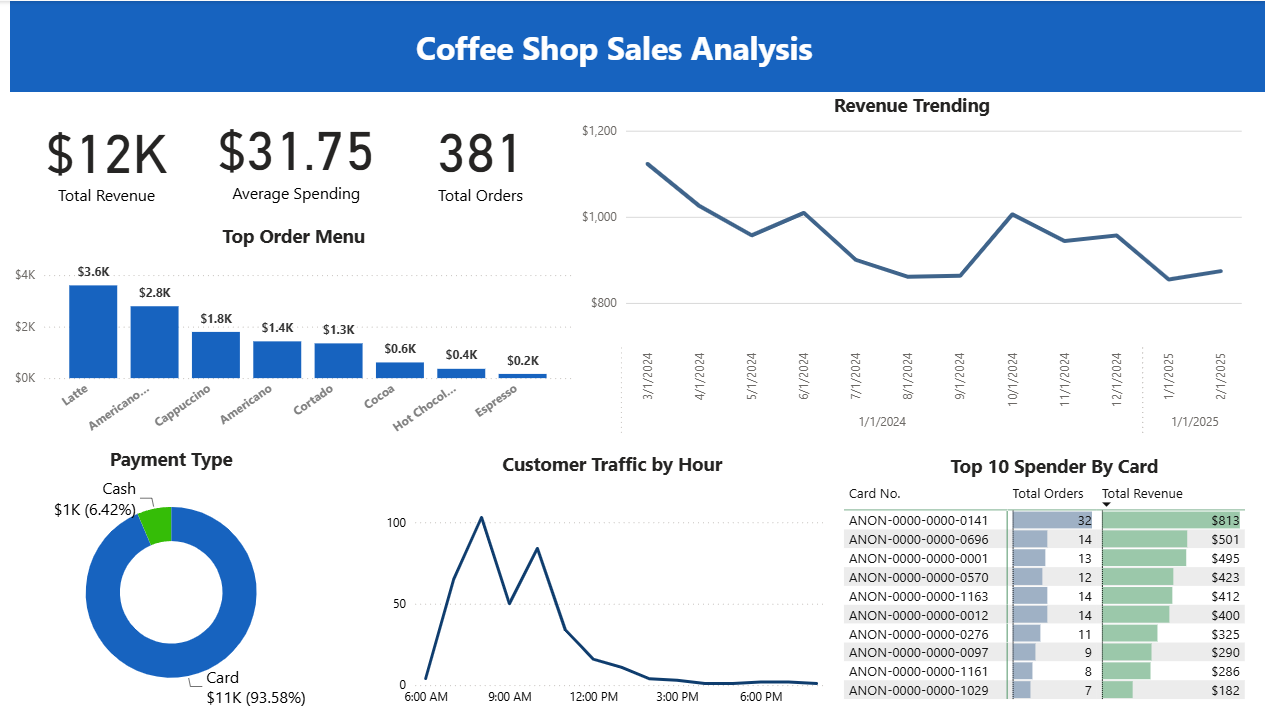

This screenshot's page, from the dashboard's own definition file:
{"tool":"powerbi","page":{"name":"Dashboard","canvas":[1280,720],"ordinal":0},"visuals":[{"type":"shape","box":[10.1,0,1269.9,91.7],"z":0},{"type":"textbox","box":[344.9,19.4,548.9,56.7],"z":1000},{"type":"areaChart","title":"Revenue Trending","fields":{"Y":["Sum(index_1.total_amount)"],"Category":["index_1.Calendar Hierarchy.Start of Year","index_1.Calendar Hierarchy.Start of Month"]},"box":[581.7,91.7,675,355],"z":2000},{"type":"donutChart","title":"Payment Type","fields":{"Category":["index_1.cash_type"],"Y":["Measure Table.Total Revenue"]},"box":[0,448.3,345,270],"z":3000},{"type":"clusteredColumnChart","title":"Top Order Menu","fields":{"Category":["index_1.coffee_name"],"Y":["Sum(index_1.total_amount)"]},"box":[10,223.3,571.7,223.3],"z":4000},{"type":"card","fields":{"Values":["Measure Table.Total Revenue"]},"box":[9.9,101.3,194.6,113.2],"z":5000},{"type":"card","fields":{"Values":["Measure Table.Total Orders"]},"box":[405,105,158.3,105],"z":6000},{"type":"lineChart","title":"Customer Traffic by Hour","fields":{"Category":["index_1.Start of Hour"],"Y":["Measure Table.Total Orders"]},"box":[384,454,466,266],"z":7000},{"type":"card","fields":{"Values":["Measure Table.Average Spending"]},"box":[193,101,212,109],"z":8000},{"type":"pivotTable","title":"Top 10 Spender By Card","fields":{"Rows":["index_1.card"],"Values":["Measure Table.Total Orders","Measure Table.Total Revenue"]},"box":[842,456,438,256],"z":9000}]}

Visuals, with their boxes in screenshot pixels (x1, y1, x2, y2), scaled from the page's 1280x720 canvas onto the 1265x706 screenshot:
shape: detection(10, 0, 1264, 90)
textbox: detection(341, 19, 883, 75)
"Revenue Trending" areaChart: detection(575, 90, 1242, 438)
"Payment Type" donutChart: detection(0, 440, 341, 704)
"Top Order Menu" clusteredColumnChart: detection(10, 219, 575, 438)
card - Measure Table.Total Revenue: detection(10, 99, 202, 210)
card - Measure Table.Total Orders: detection(400, 103, 557, 206)
"Customer Traffic by Hour" lineChart: detection(380, 445, 840, 705)
card - Measure Table.Average Spending: detection(191, 99, 400, 206)
"Top 10 Spender By Card" pivotTable: detection(832, 447, 1264, 698)
